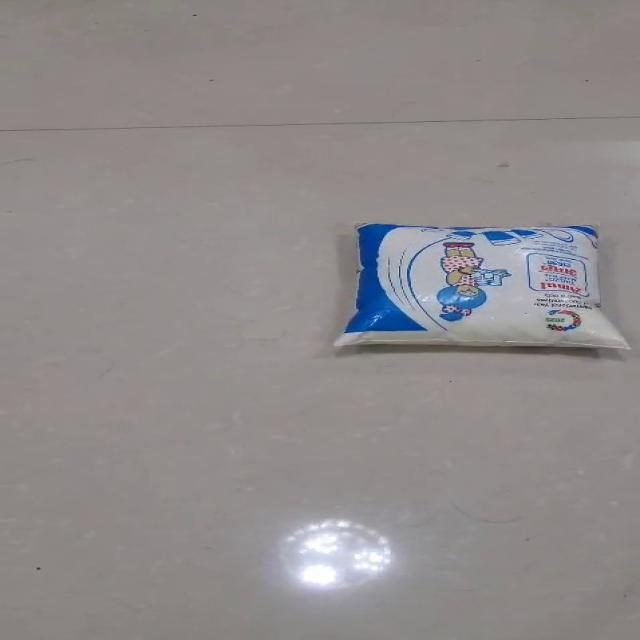plastic: (331, 221, 629, 350)
